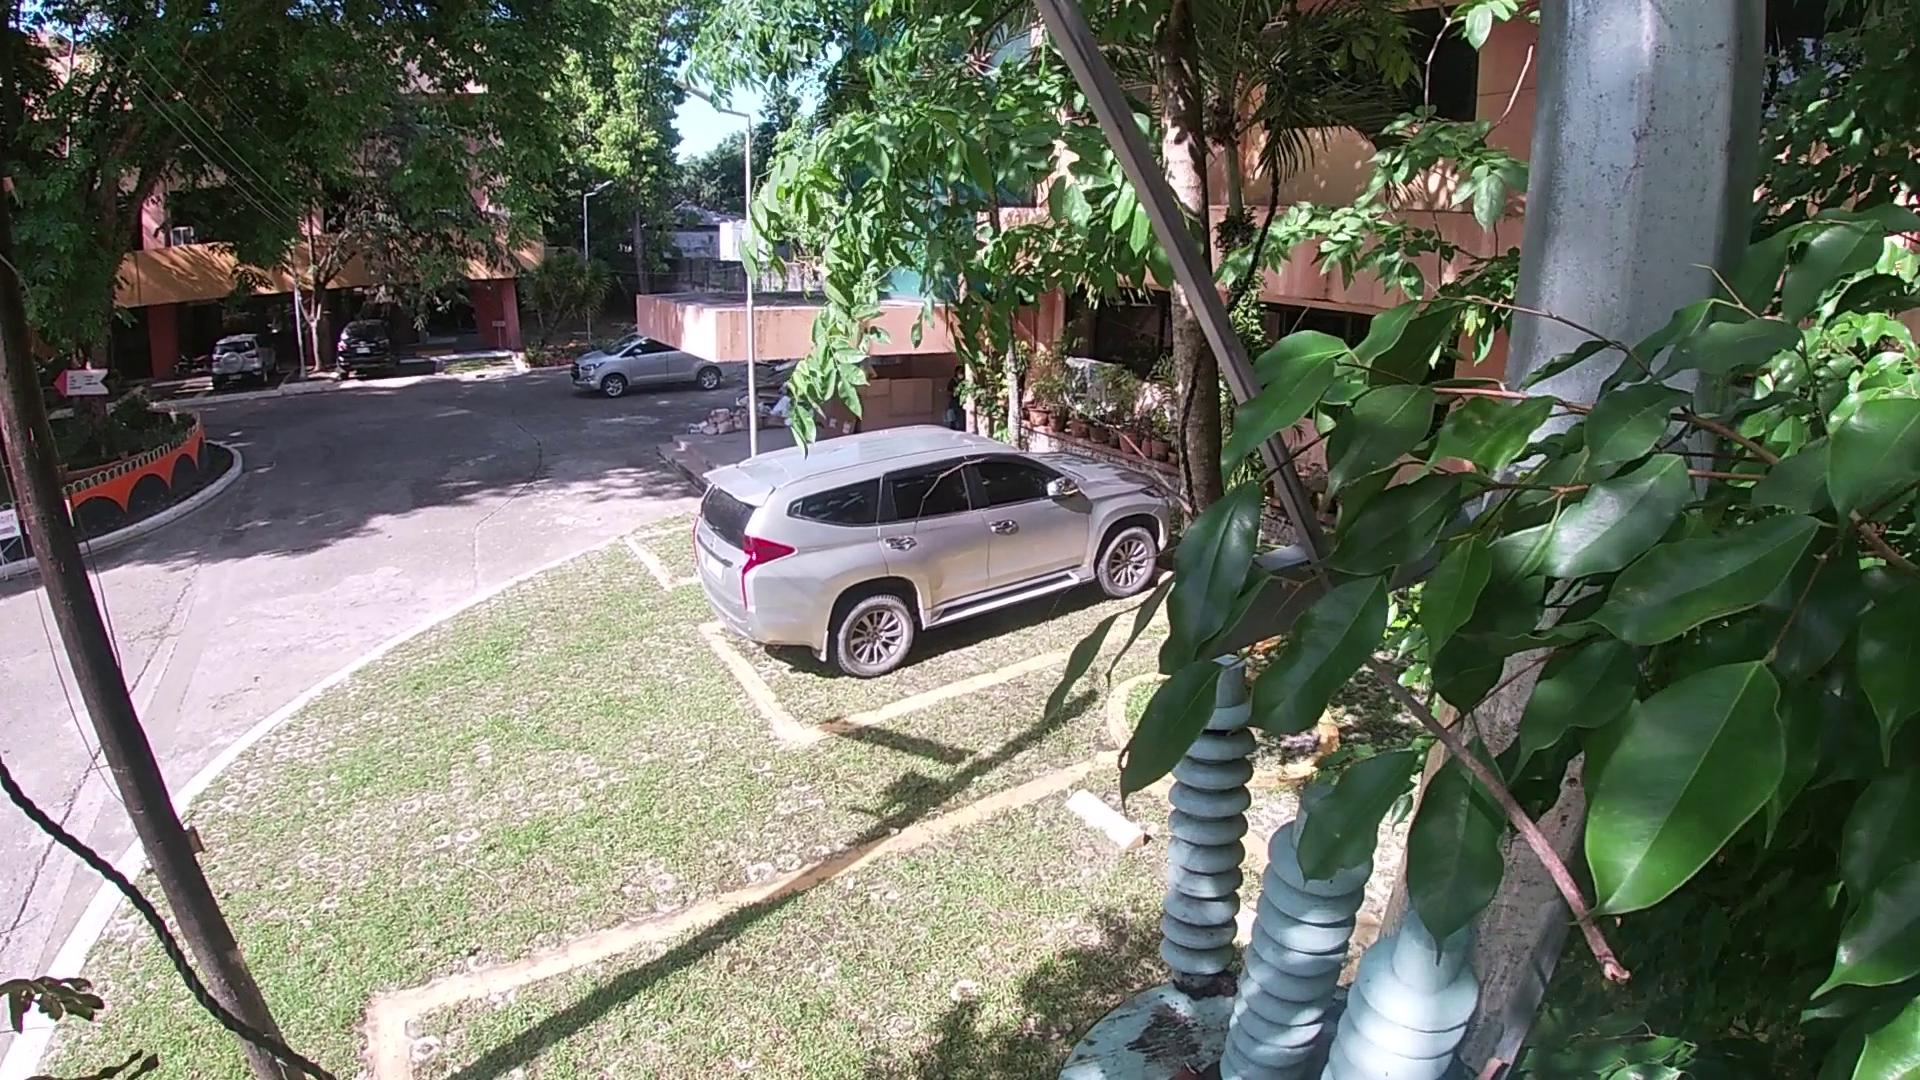mahogany fruit: (1149, 1044, 1205, 1080)
tree branch: (971, 413, 1640, 985), (1439, 1054, 1519, 1075)
